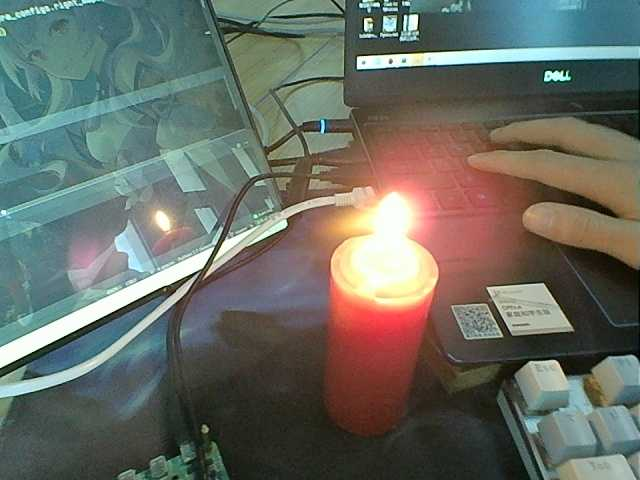candle: (324, 278, 417, 433)
fire: (361, 186, 417, 285), (152, 200, 179, 237)
